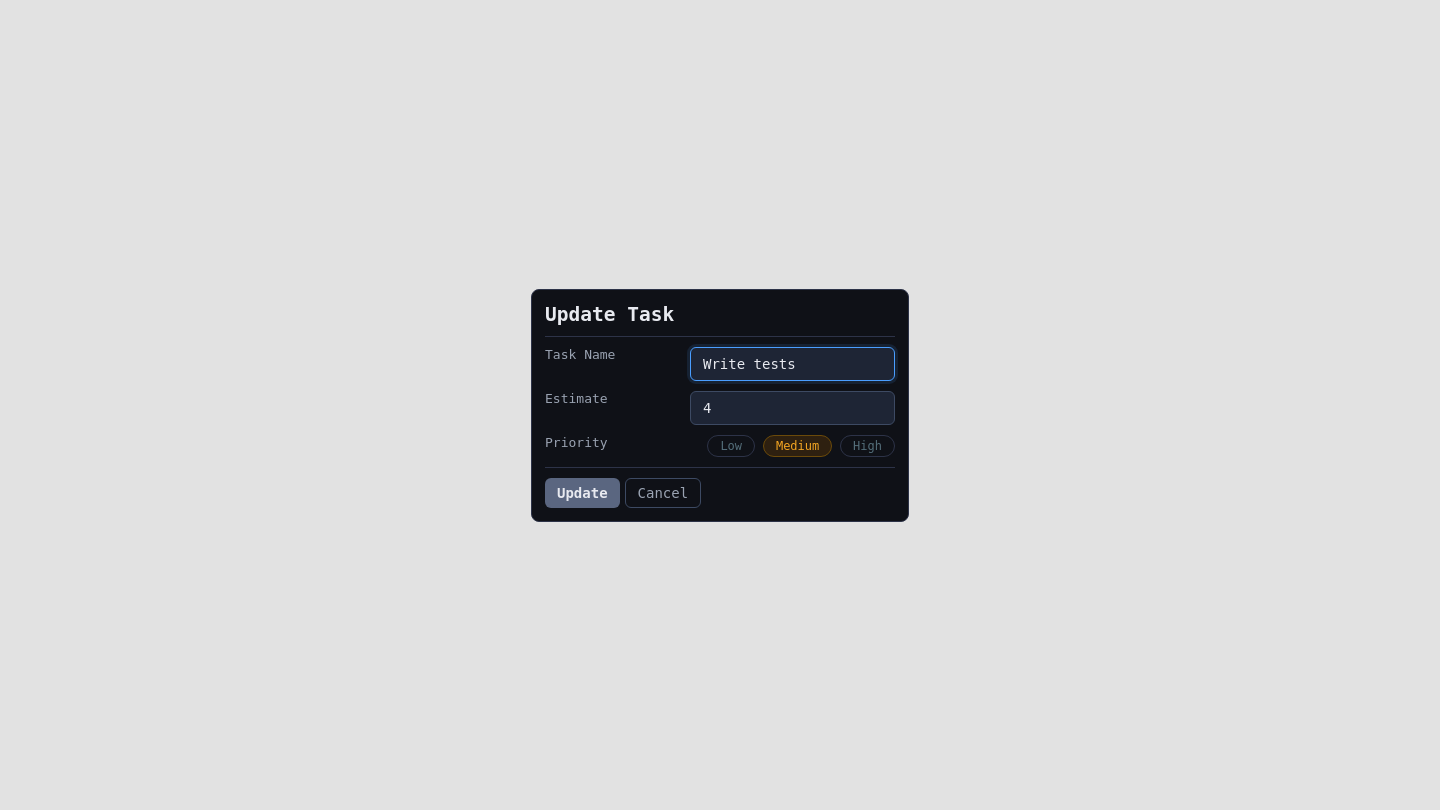
Test case: EditTaskModal › the Update button › enables once the name changes
This screenshot has width=1440, height=810.
Replace the text in the field with placeholder "Task Name" with "Write more tests" at (792, 364), box x1=690 y1=346 x2=895 y2=380
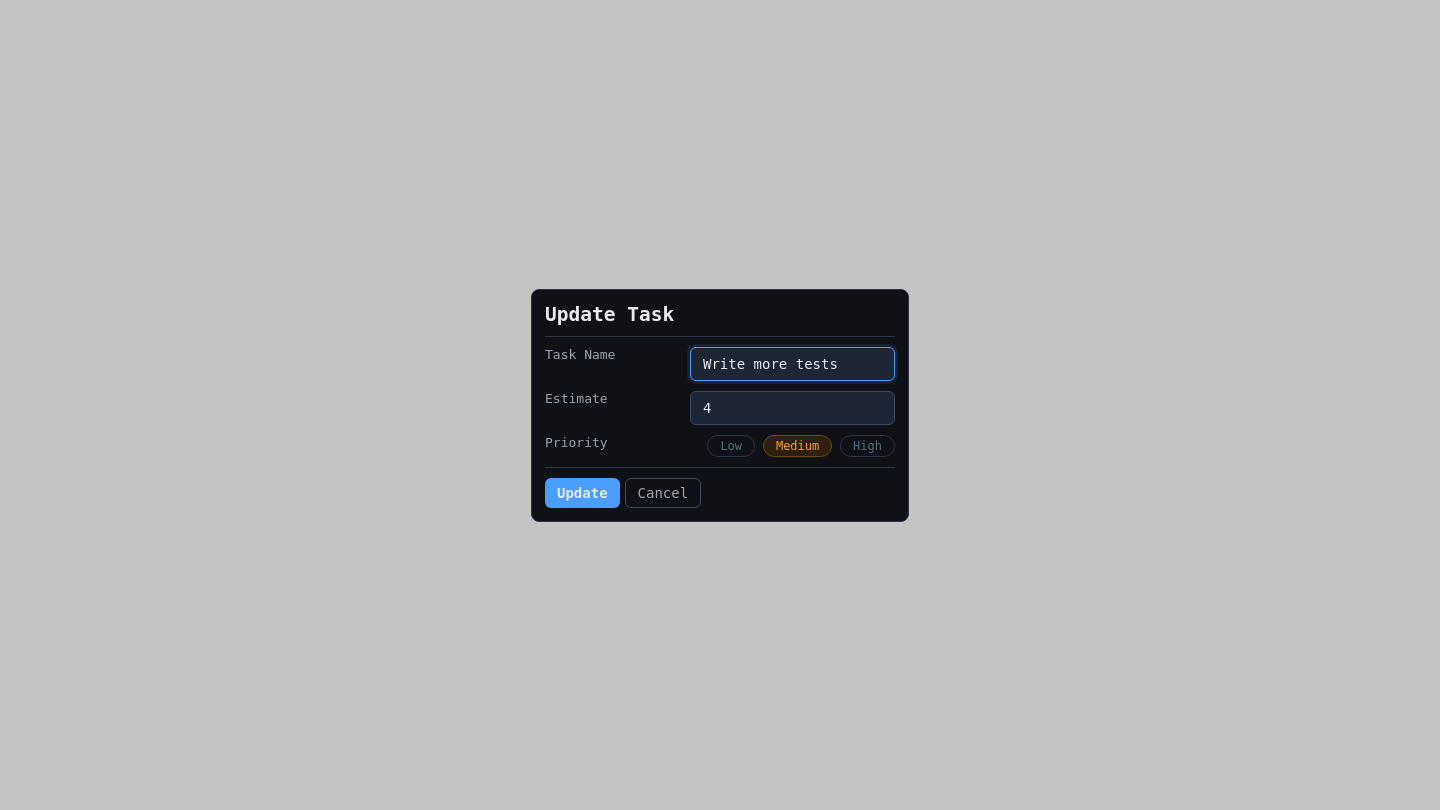
Expected: the button "Update" is enabled, x1=545 y1=478 x2=620 y2=508
